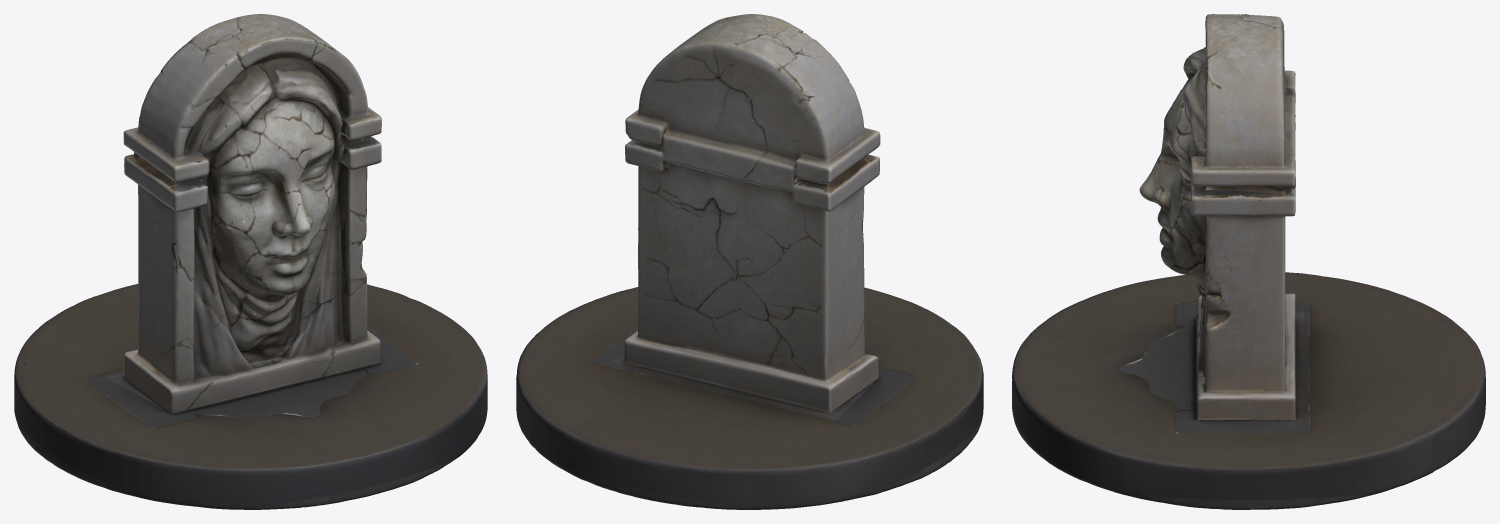
File: Eternal_Calm_tombston_0706215537_texture.fbx
3 views of the same model, side by side, from view 1: azimuth 30°, elevation 25°; view 2: azimuth 150°, elevation 25°; view 3: azimuth 270°, elevation 25° (orthographic).
Visible parts, largest first — view 1: input; view 2: input; view 3: input.
Boxes of the visible parts, bbox=[...] form: input: bbox=[14, 14, 487, 509]; input: bbox=[516, 14, 983, 509]; input: bbox=[1012, 14, 1485, 509].
Bounding box in the file's own units: 200 × 180 × 200.
1 material, 1 textured.
